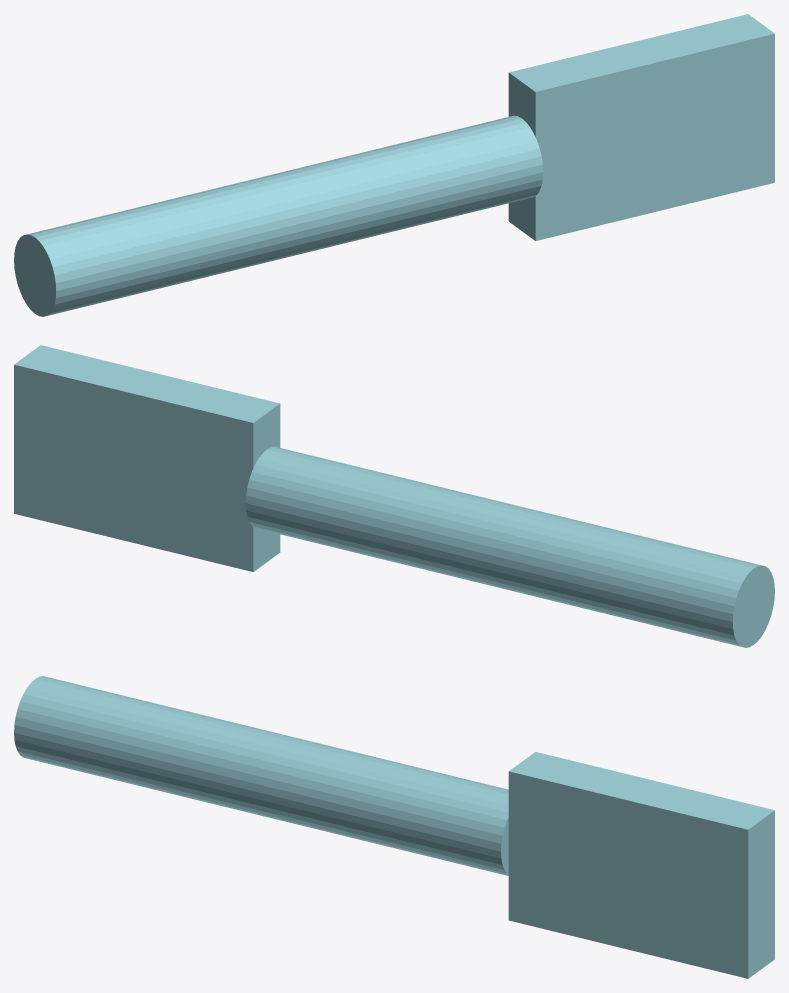
File: cylinder_spatula_v6001.obj
The picture shows the model from 3 angles, top to bottom: view 1: azimuth 30°, elevation 25°; view 2: azimuth 150°, elevation 25°; view 3: azimuth 330°, elevation 25°; orthographic projection.
Size of the model in its own units: 0.263 by 0.0516 by 0.0265.
Materials: 1 (1 with a texture image).
